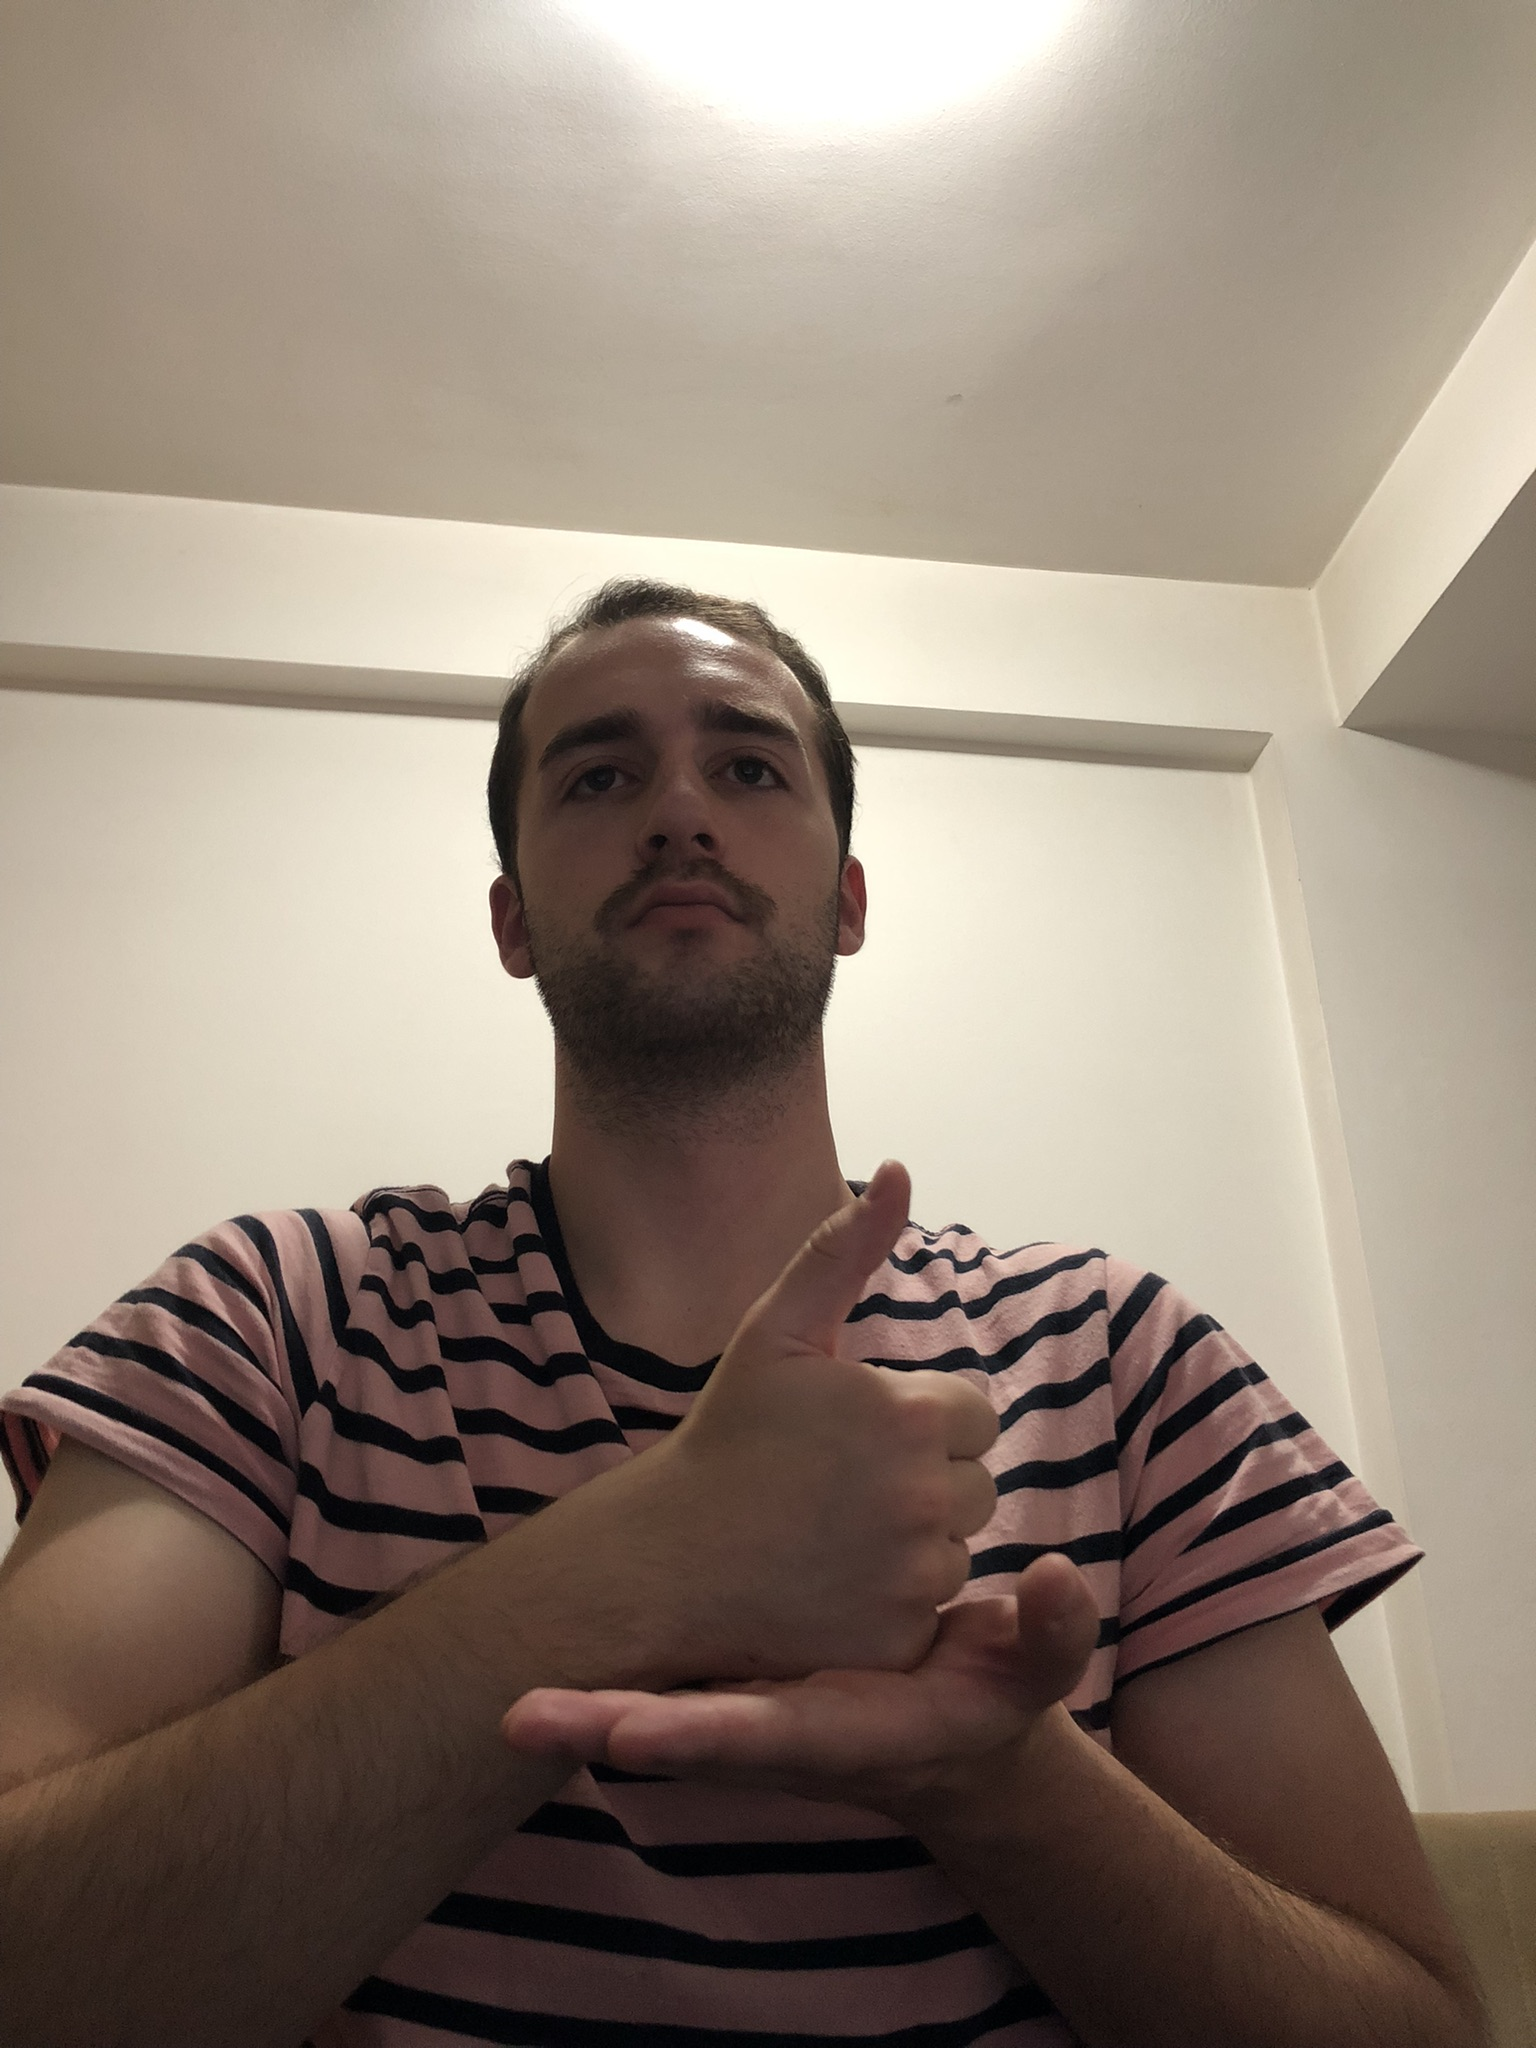Help: (482, 1142, 1108, 1834)
